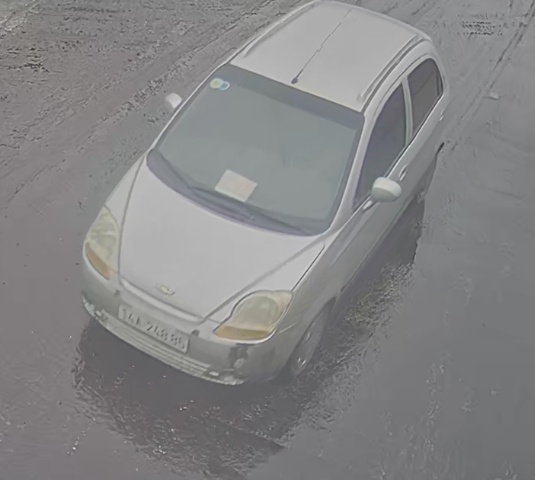vehicle plate: (114, 297, 197, 351)
